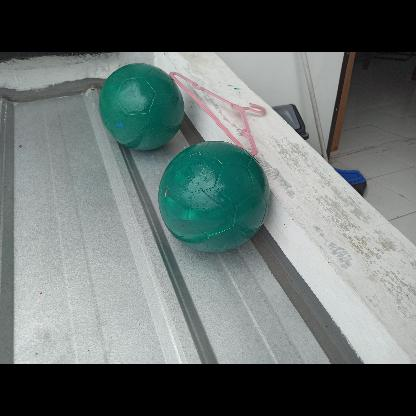green_ball: (157, 140, 271, 254), (96, 60, 184, 148)
